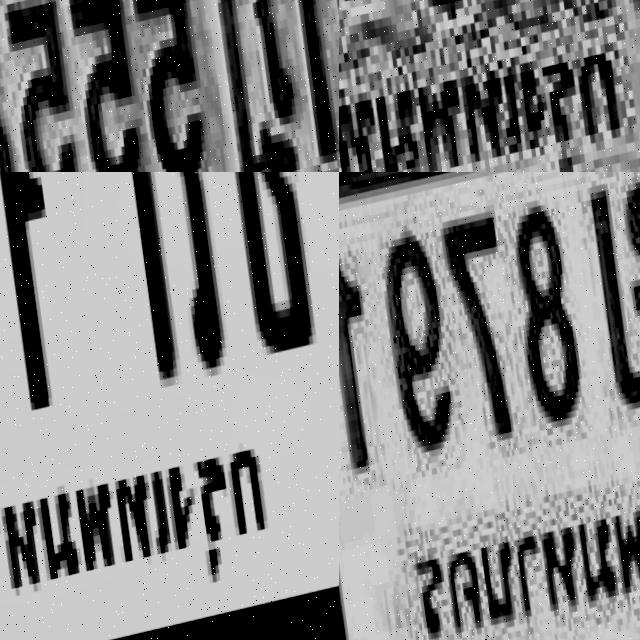license-plate: (0, 172, 339, 640), (339, 172, 640, 640), (0, 0, 339, 172), (339, 0, 640, 172)
